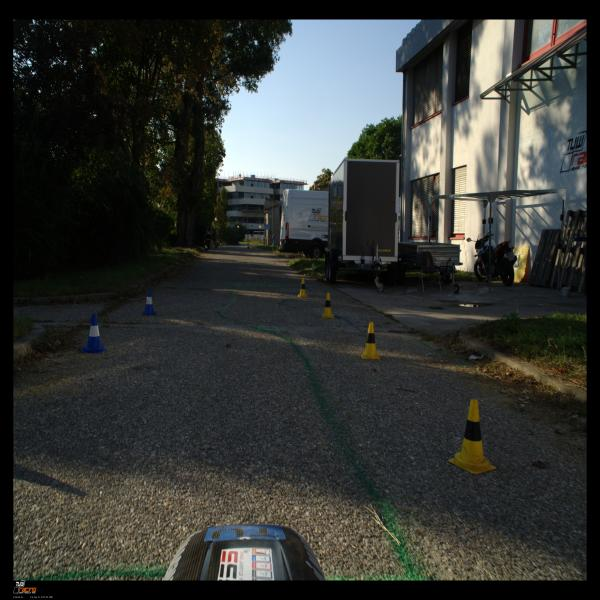blue_cone: (81, 314, 107, 353), (142, 289, 156, 315)
yellow_cone: (448, 399, 496, 474), (361, 322, 380, 360), (321, 292, 334, 318), (297, 278, 308, 297)
